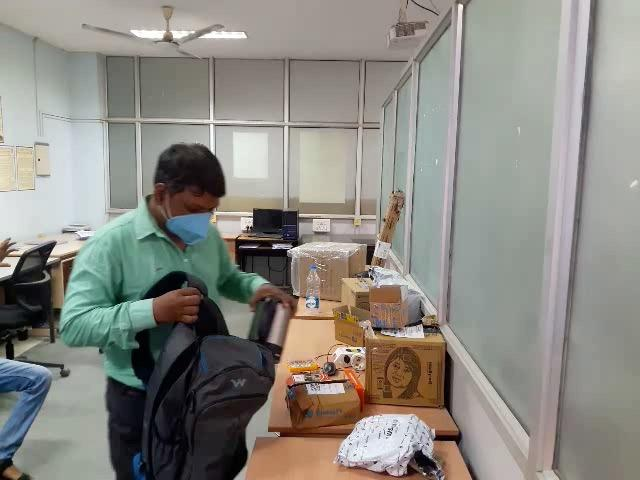shoplifting: (71, 259, 341, 480)
